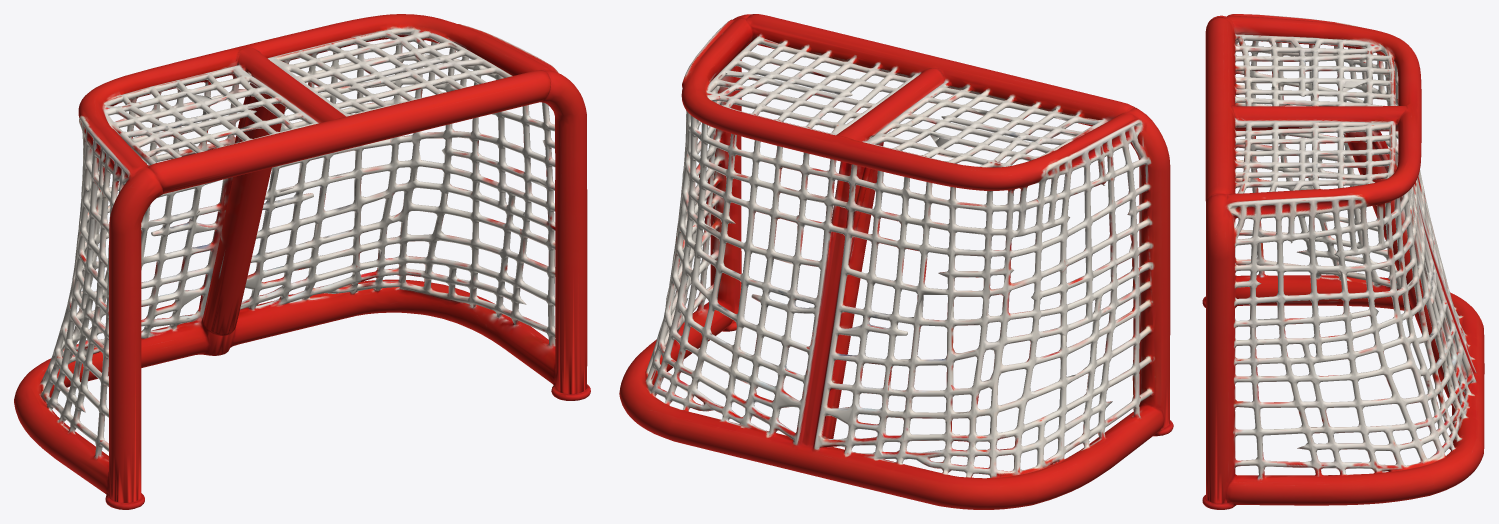
The model's file is hunyuan-v31-net.glb.
3 renders of one model, left to right at view 1: azimuth 30°, elevation 25°; view 2: azimuth 150°, elevation 25°; view 3: azimuth 270°, elevation 25°, orthographic. The views are drawn at different scales.
Parts seen in each view (by area): view 1: node_0; view 2: node_0; view 3: node_0.
Part boxes in pixels (bbox=[...]): node_0: bbox=[14, 14, 590, 509]; node_0: bbox=[619, 14, 1173, 509]; node_0: bbox=[1202, 14, 1484, 509].
Bounding box in the file's own units: 0.9269 × 0.6092 × 0.5178.
Materials: 1 (1 with a texture image).
